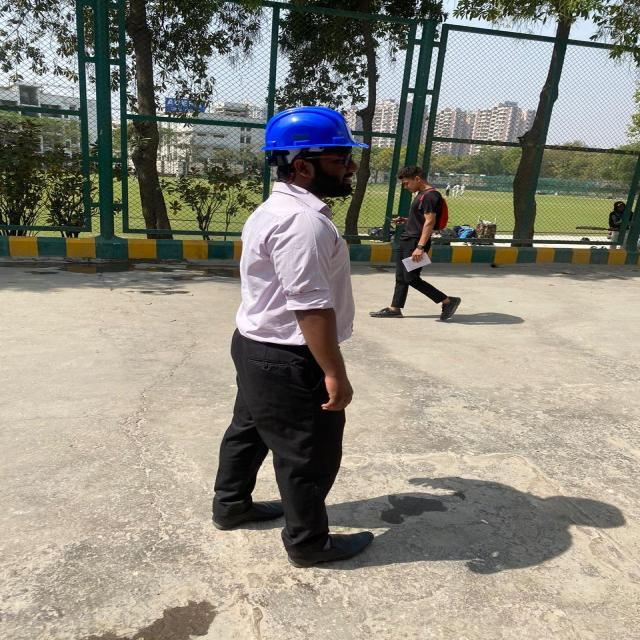no jacket: (231, 106, 369, 566)
unsafe: (396, 166, 442, 318)
